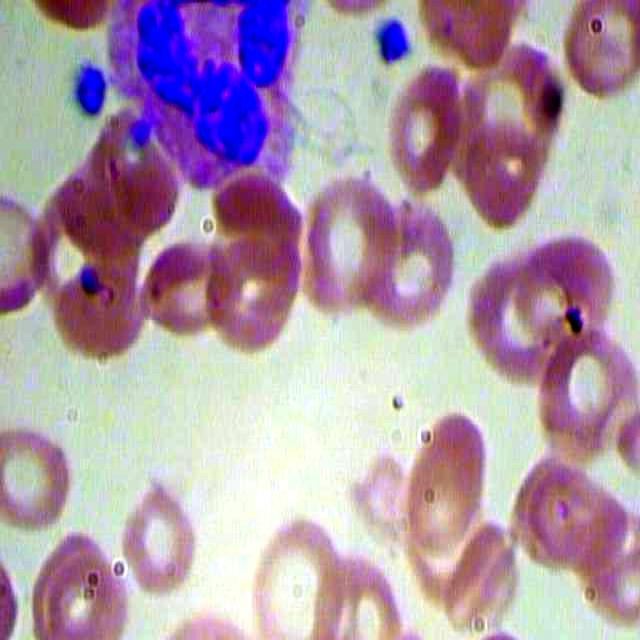Platelets: (361, 16, 419, 75), (70, 51, 112, 125)
RBC: (298, 170, 406, 314), (356, 197, 462, 332), (534, 324, 640, 459), (248, 509, 346, 640), (402, 407, 486, 552), (140, 228, 242, 340), (50, 256, 152, 368), (115, 477, 206, 595), (388, 57, 467, 191), (1, 420, 79, 535), (564, 1, 640, 103), (337, 548, 402, 640)
WBC: (100, 1, 307, 192)
